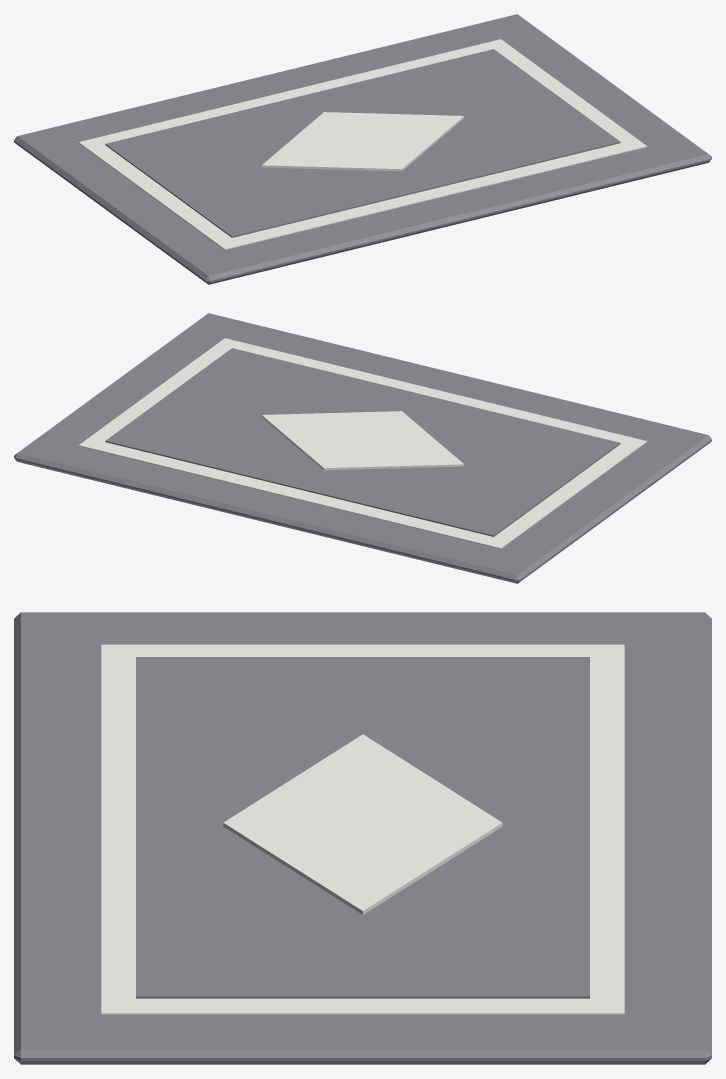
File: GrayRug.fbx
The picture shows the model from 3 angles, top to bottom: view 1: azimuth 30°, elevation 25°; view 2: azimuth 150°, elevation 25°; view 3: azimuth 270°, elevation 25°; orthographic projection. The views are drawn at different scales.
Parts seen in each view (by area): view 1: GrayRug; view 2: GrayRug; view 3: GrayRug.
Part boxes in pixels (x1=…): GrayRug: x1=14, y1=14, x2=711, y2=284; GrayRug: x1=14, y1=313, x2=711, y2=583; GrayRug: x1=14, y1=612, x2=711, y2=1064.
Size of the model in its own units: 6 by 0.15 by 4.
1 material, 1 textured.
